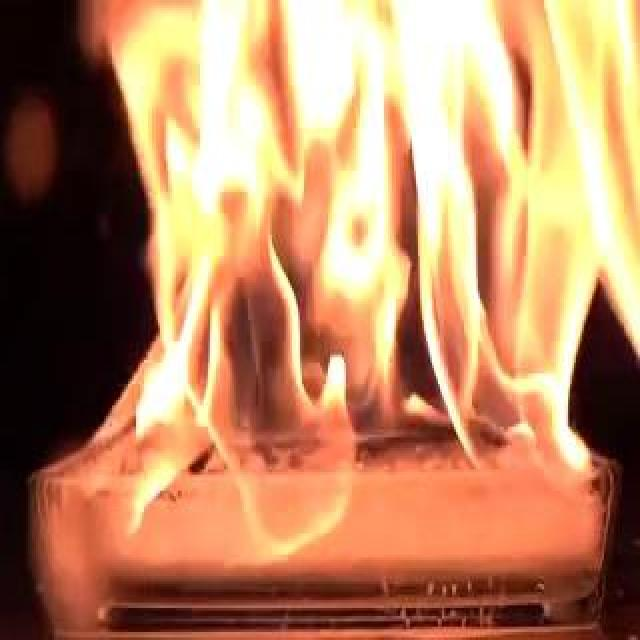Fire: (65, 3, 615, 597)
